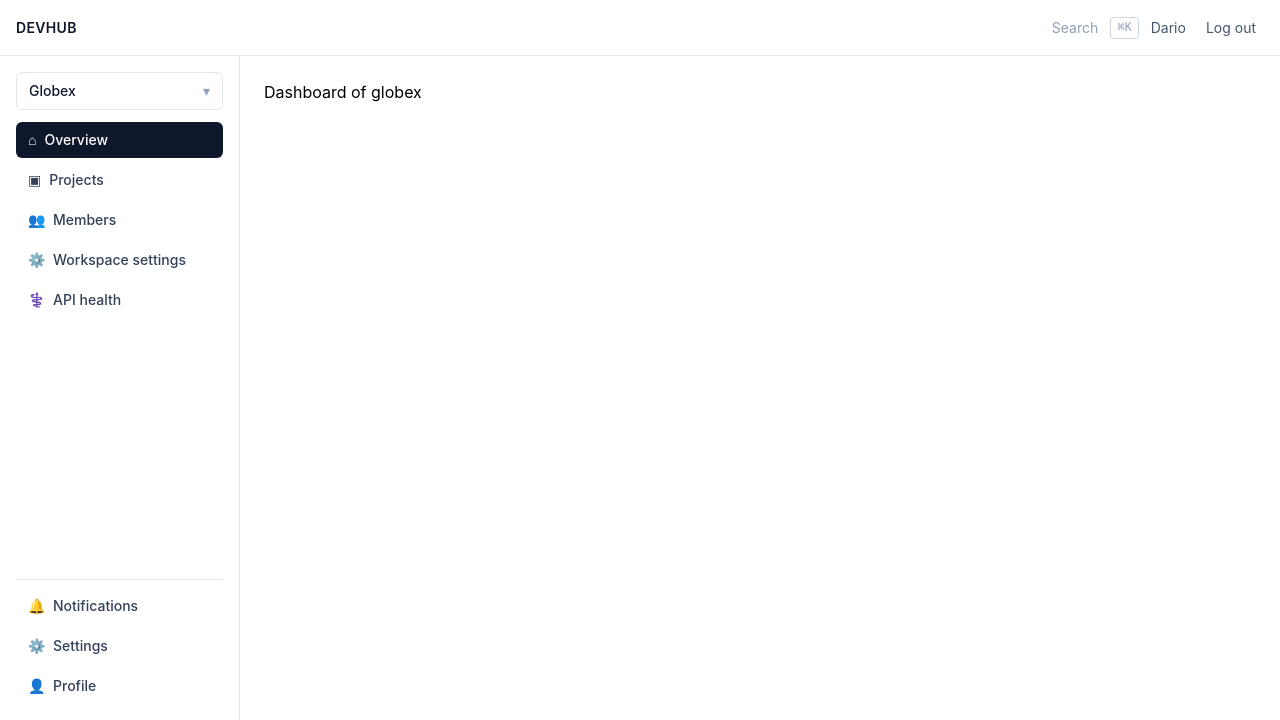
Scenario: creating a workspace › shows a taken address on the name field
The width and height of the screenshot is (1280, 720).
Check: the heading "Dashboard of globex" is shown, box top-left (264, 82), bottom-right (422, 102)
Click the button with aria-label "Workspace: Globex": point(120, 91) top-left (16, 72), bottom-right (223, 110)
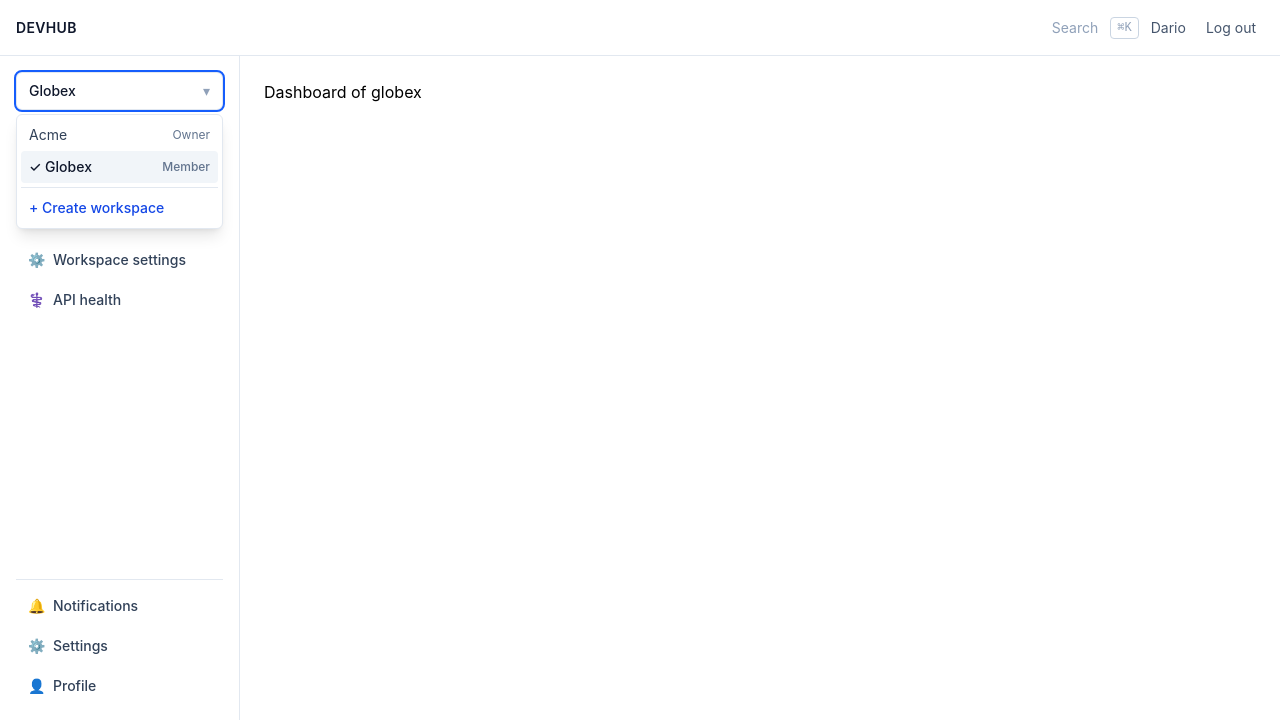
Click the button "+ Create workspace": point(120, 208) top-left (21, 192), bottom-right (218, 224)
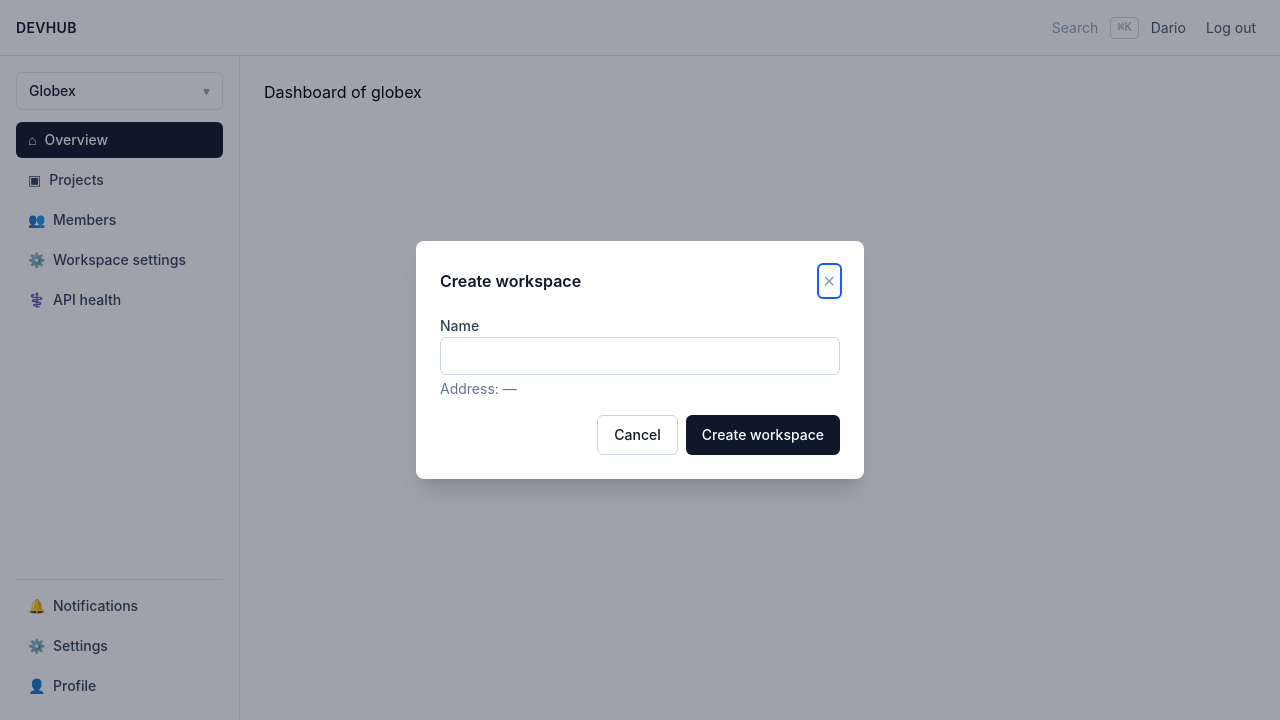
In the field labelled "Name": point(640, 356) top-left (440, 337), bottom-right (840, 375), type "Acme"
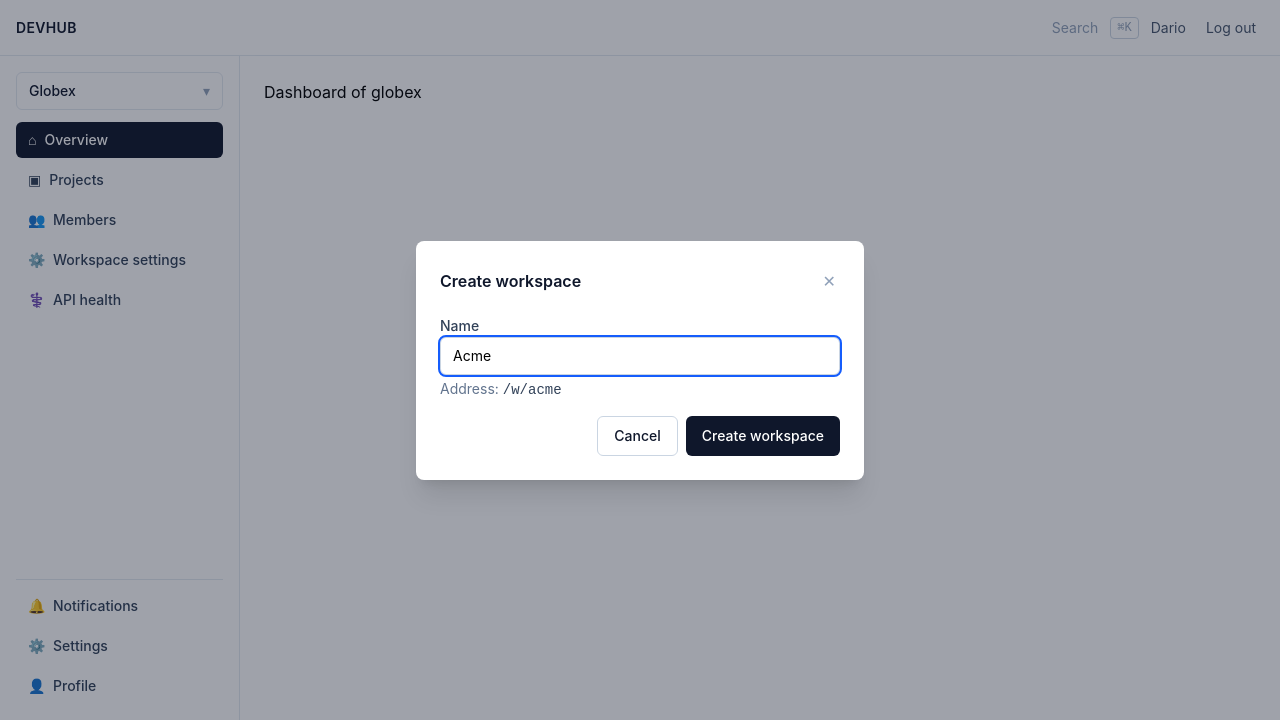
Click the button "Create workspace": point(763, 436) top-left (686, 416), bottom-right (840, 456)
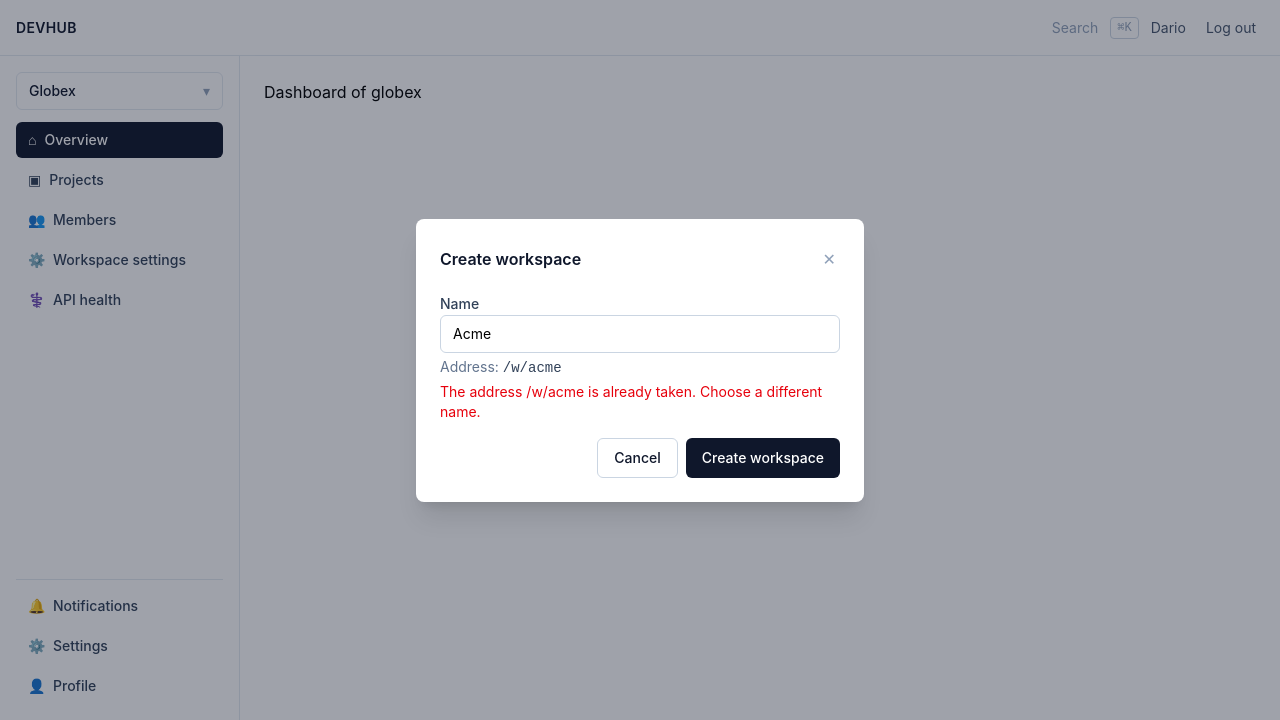
Check: the text "The address /w/acme is already taken. Choose a different name." is shown, box top-left (440, 382), bottom-right (840, 422)
